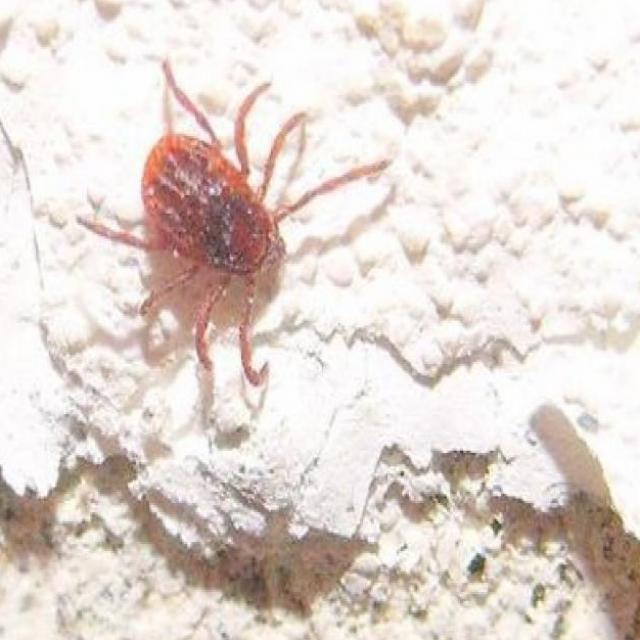Rhipicephalus Sanguineus-F: (75, 61, 388, 387)
